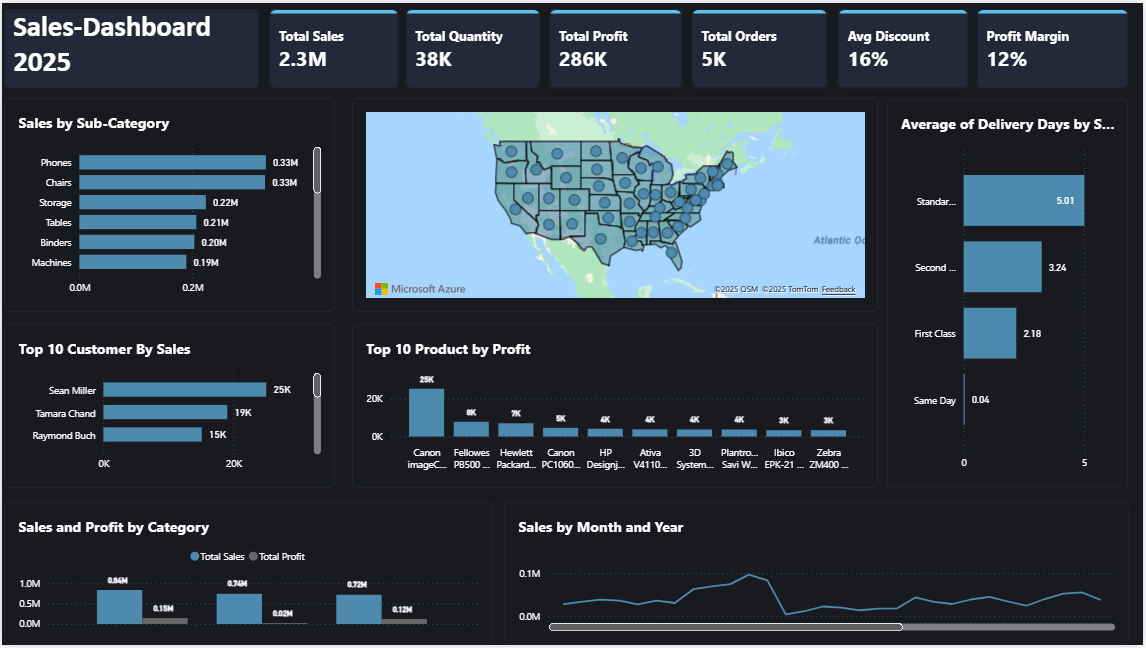

The dashboard page shown, as its layout file describes it:
{"tool":"powerbi","page":{"name":"Page 2","canvas":[1280,720],"ordinal":0},"visuals":[{"type":"cardVisual","fields":{"Data":["Sample - Superstore.Total Profit"]},"box":[614.3,7.1,148.6,88.6],"z":0},{"type":"lineChart","title":"Sales by Month and Year","fields":{"Y":["Sample - Superstore.Total Sales"],"Category":["Date Table.Month","Date Table.Year"]},"box":[563.3,560,700,160],"z":1000},{"type":"clusteredColumnChart","title":"Sales and Profit by Category","fields":{"Category":["Sample - Superstore.Category"],"Y":["Sample - Superstore.Total Sales","Sample - Superstore.Total Profit"]},"box":[3.3,560,548.3,160],"z":2000},{"type":"clusteredBarChart","title":"Sales by Sub-Category","fields":{"Category":["Sample - Superstore.Sub-Category"],"Y":["Sample - Superstore.Total Sales"]},"box":[2.9,107.1,370,240],"z":3000},{"type":"clusteredBarChart","title":"Top 10 Customer By Sales","fields":{"Category":["Sample - Superstore.Customer Name"],"Y":["Sample - Superstore.Total Sales"]},"box":[3.3,360,370,183.3],"z":4000},{"type":"clusteredColumnChart","title":"Top 10 Product by Profit ","fields":{"Category":["Sample - Superstore.Product Name"],"Y":["Sample - Superstore.Total Profit"]},"box":[393.3,360,590,183.3],"z":5000},{"type":"azureMap","title":"Sales by State","fields":{"Category":["Sample - Superstore.State"]},"box":[393.3,106.7,590,240],"z":6000},{"type":"cardVisual","fields":{"Data":["Sample - Superstore.Total Sales"]},"box":[300.1,7,144.4,88.3],"z":7000},{"type":"cardVisual","fields":{"Data":["Sample - Superstore.Total Quantity"]},"box":[452.9,7,150,88.3],"z":8000},{"type":"cardVisual","fields":{"Data":["Sample - Superstore.Total Orders"]},"box":[774.3,7.1,151.4,88.6],"z":9000},{"type":"cardVisual","fields":{"Data":["Sample - Superstore.Avg Discount"]},"box":[938.6,7.1,145.7,88.6],"z":10000},{"type":"cardVisual","fields":{"Data":["Sample - Superstore.Profit Margin"]},"box":[1093.8,7,169.7,88.3],"z":11000},{"type":"shape","box":[2.8,7,284.7,88.3],"z":12000},{"type":"textbox","box":[12.6,7,274.8,88.3],"z":13000},{"type":"clusteredBarChart","fields":{"Category":["Sample - Superstore.Ship Mode"],"Y":["Avg(Sample - Superstore.Delivery Days)"]},"box":[993.3,108.3,270,435],"z":14000}]}

Visuals, with their boxes in screenshot pixels (x1, y1, x2, y2), scaled from the page's 1280x720 canvas onto the 1146x648 screenshot:
cardVisual - Sample - Superstore.Total Profit: 550/6/683/86
"Sales by Month and Year" lineChart: 504/504/1131/647
"Sales and Profit by Category" clusteredColumnChart: 3/504/494/647
"Sales by Sub-Category" clusteredBarChart: 3/96/334/312
"Top 10 Customer By Sales" clusteredBarChart: 3/324/334/489
"Top 10 Product by Profit " clusteredColumnChart: 352/324/880/489
"Sales by State" azureMap: 352/96/880/312
cardVisual - Sample - Superstore.Total Sales: 269/6/398/86
cardVisual - Sample - Superstore.Total Quantity: 405/6/540/86
cardVisual - Sample - Superstore.Total Orders: 693/6/829/86
cardVisual - Sample - Superstore.Avg Discount: 840/6/971/86
cardVisual - Sample - Superstore.Profit Margin: 979/6/1131/86
shape: 3/6/257/86
textbox: 11/6/257/86
clusteredBarChart - Sample - Superstore.Ship Mode x Avg(Sample - Superstore.Delivery Days): 889/97/1131/489
